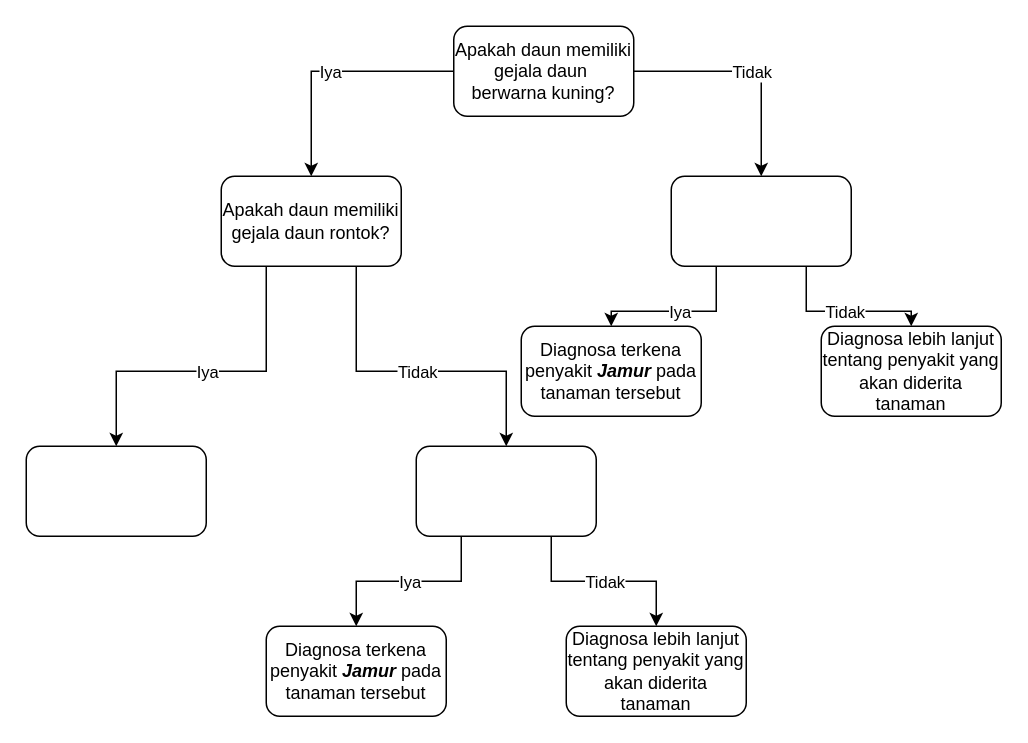
The diagram is 1028 pixels wide and 743 high, and some of its shapes have lost their labels. Here are the shapes that lost their labels. From the top down, the centre of each, then its label:
At [760,220]: "Apakah ada bintik -bintik coklat pada daun?".
At [115,490]: "Diagnosa terkena penyakit Klorosis pada tanaman tersebut".
At [505,490]: "Apakah ada bintik - bintik coklat pada daun?".
